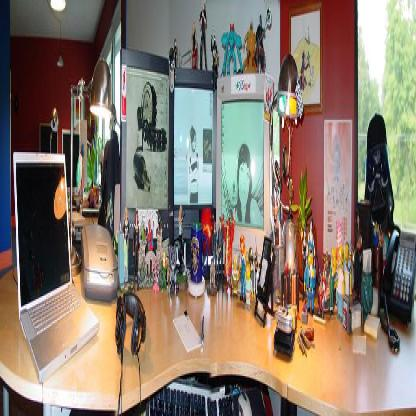board: (16, 133, 94, 365)
